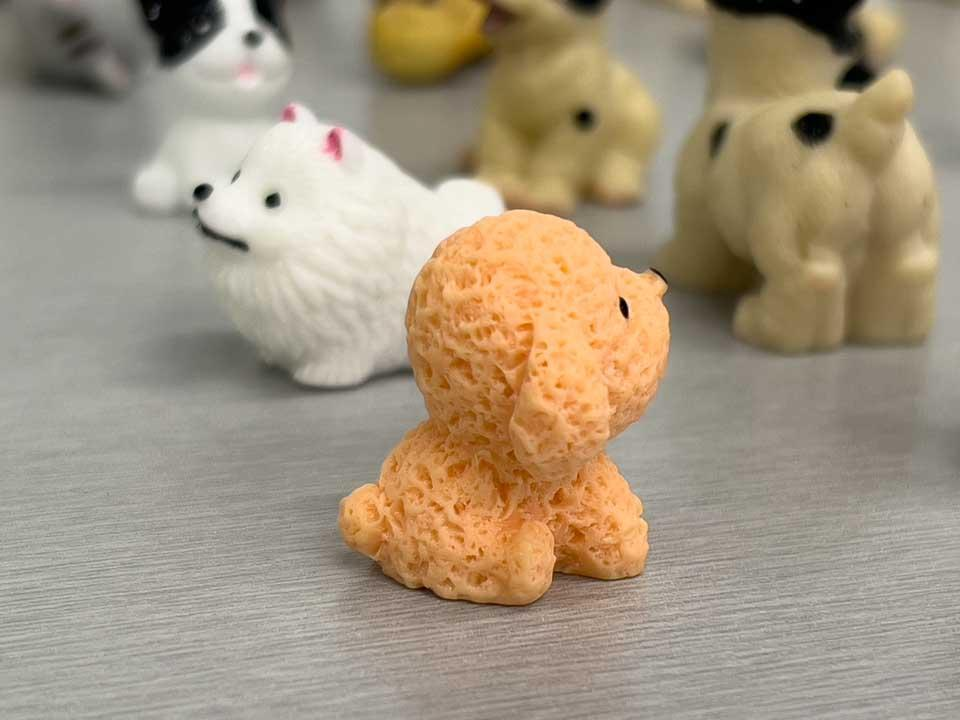pet: (336, 207, 676, 605), (186, 102, 519, 390), (674, 0, 944, 352), (124, 0, 337, 218), (471, 0, 666, 210)
